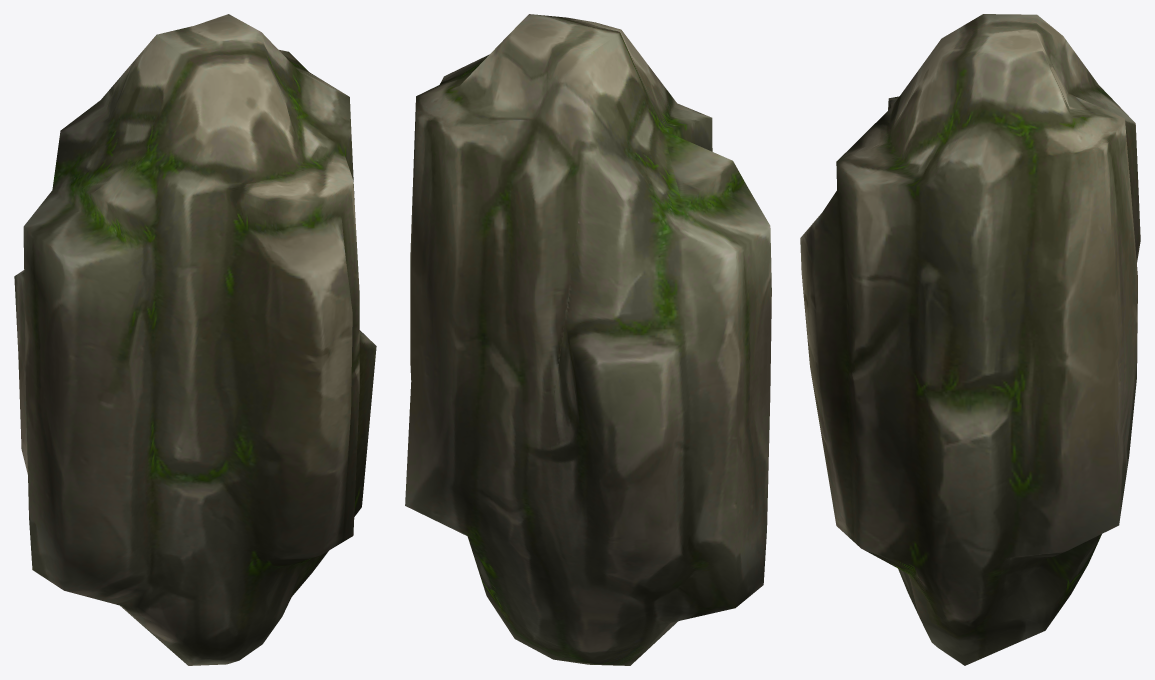
File: RockFormation_4_2 (9).fbx
3 renders of one model, left to right at view 1: azimuth 30°, elevation 25°; view 2: azimuth 150°, elevation 25°; view 3: azimuth 270°, elevation 25°, orthographic. The views are drawn at different scales.
Parts seen in each view (by area): view 1: RockFormation_4_2 (9); view 2: RockFormation_4_2 (9); view 3: RockFormation_4_2 (9).
Boxes of the visible parts, left/top/right/bottom form: RockFormation_4_2 (9): left=14, top=14, right=376, bottom=665; RockFormation_4_2 (9): left=405, top=14, right=771, bottom=665; RockFormation_4_2 (9): left=800, top=14, right=1140, bottom=665.
Size of the model in its own units: 57.96 by 108 by 53.02.
